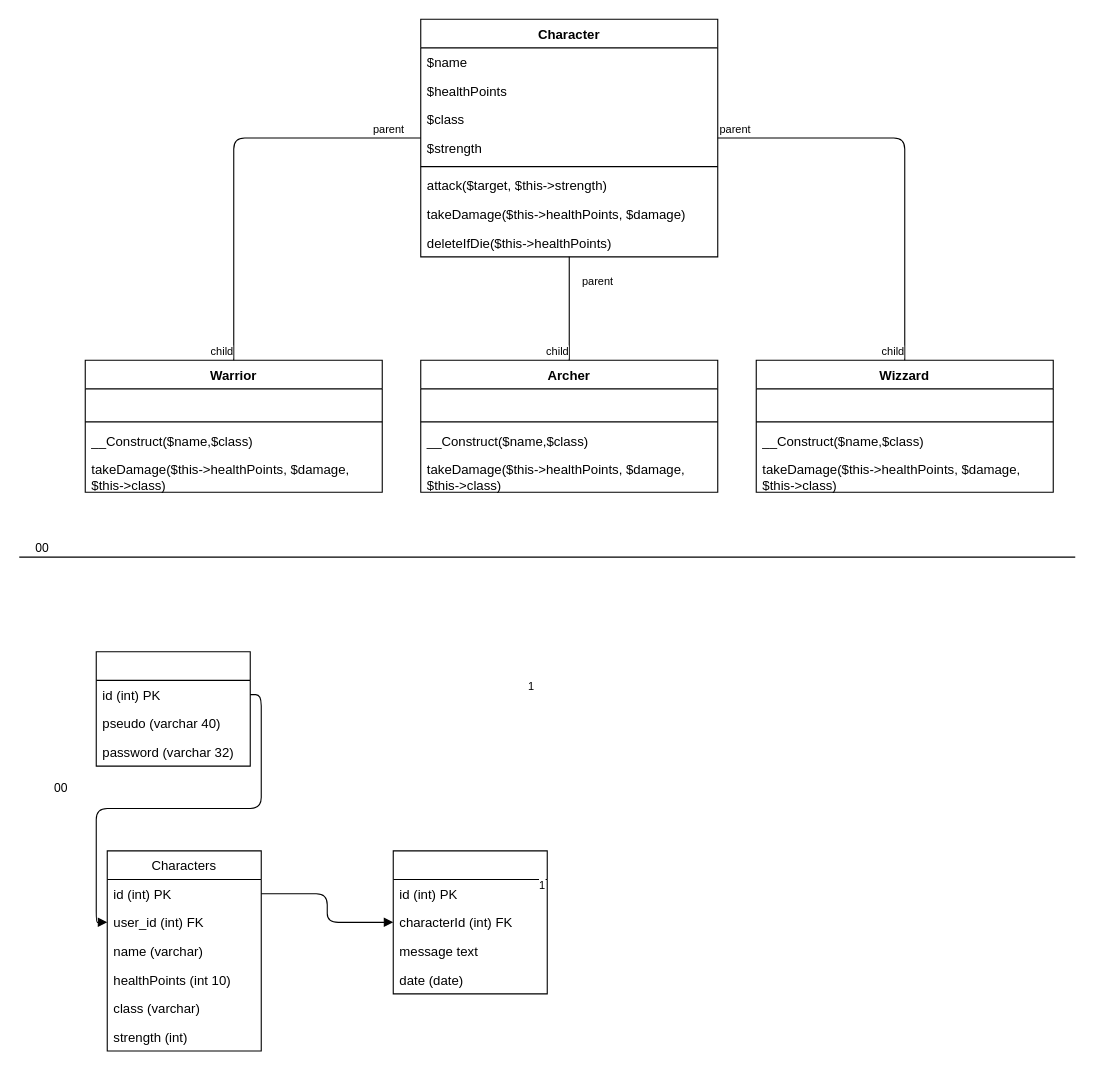
The diagram is 1095 pixels wide and 1074 high, and some of its shapes have lost their labels. Each missing label, with the box of its shape:
fight_logs: (392, 850, 547, 994)
Users: (95, 651, 250, 766)
